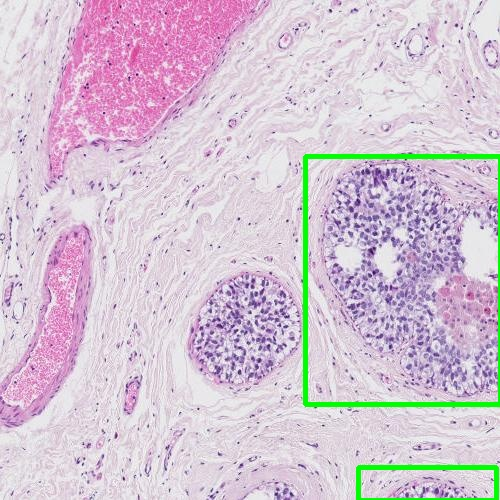DCIS: (305, 156, 500, 404), (358, 467, 496, 500)
